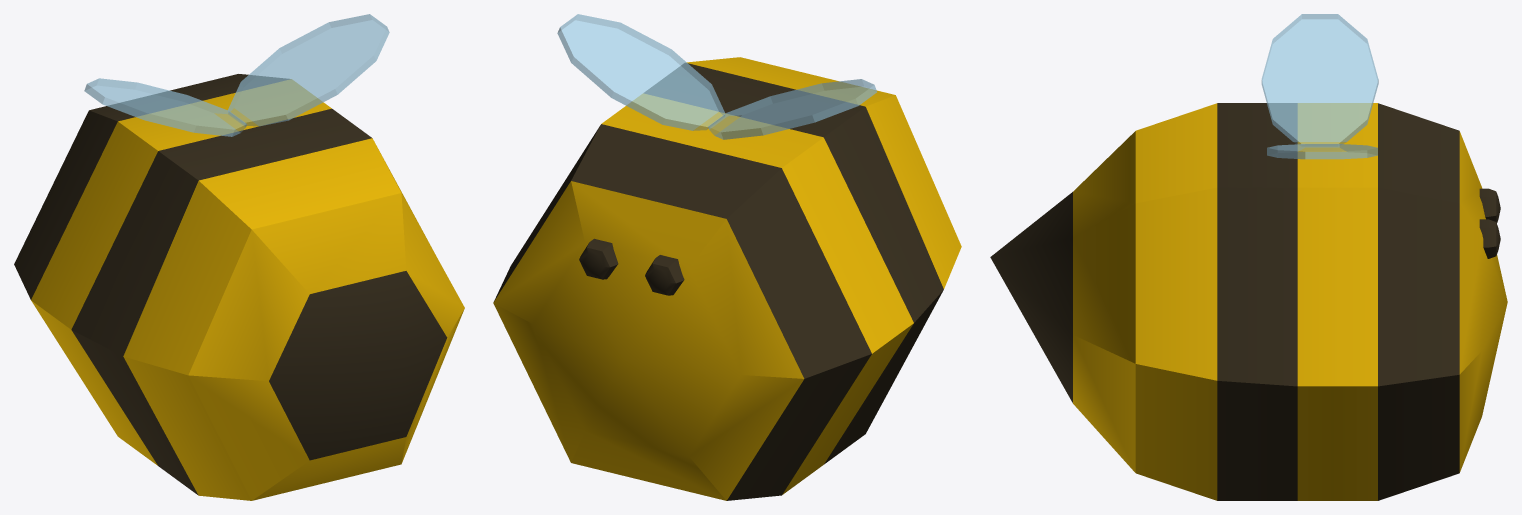
Rendered from New_LazeBee.fbx.
3 views of the same model, side by side, from view 1: azimuth 30°, elevation 25°; view 2: azimuth 150°, elevation 25°; view 3: azimuth 270°, elevation 25° (orthographic). The views are drawn at different scales.
Visible parts, largest first — view 1: LazyBee_GEOShape; view 2: LazyBee_GEOShape; view 3: LazyBee_GEOShape.
Part boxes in pixels (x1=…): LazyBee_GEOShape: x1=14, y1=14, x2=464, y2=500; LazyBee_GEOShape: x1=493, y1=14, x2=961, y2=500; LazyBee_GEOShape: x1=990, y1=14, x2=1507, y2=500.
Size of the model in its own units: 36 by 37.59 by 46.65.
